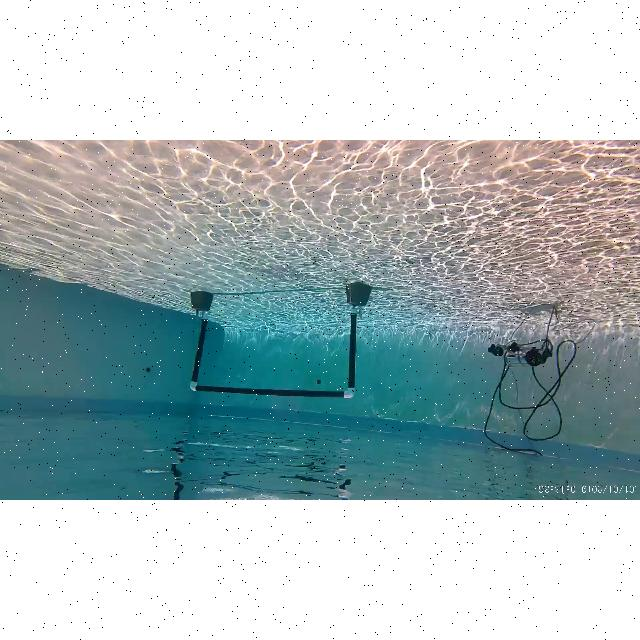prequal gate: (188, 307, 356, 398)
prequal gate leg l: (344, 308, 361, 402)
prequal gate leg r: (190, 308, 210, 394)
